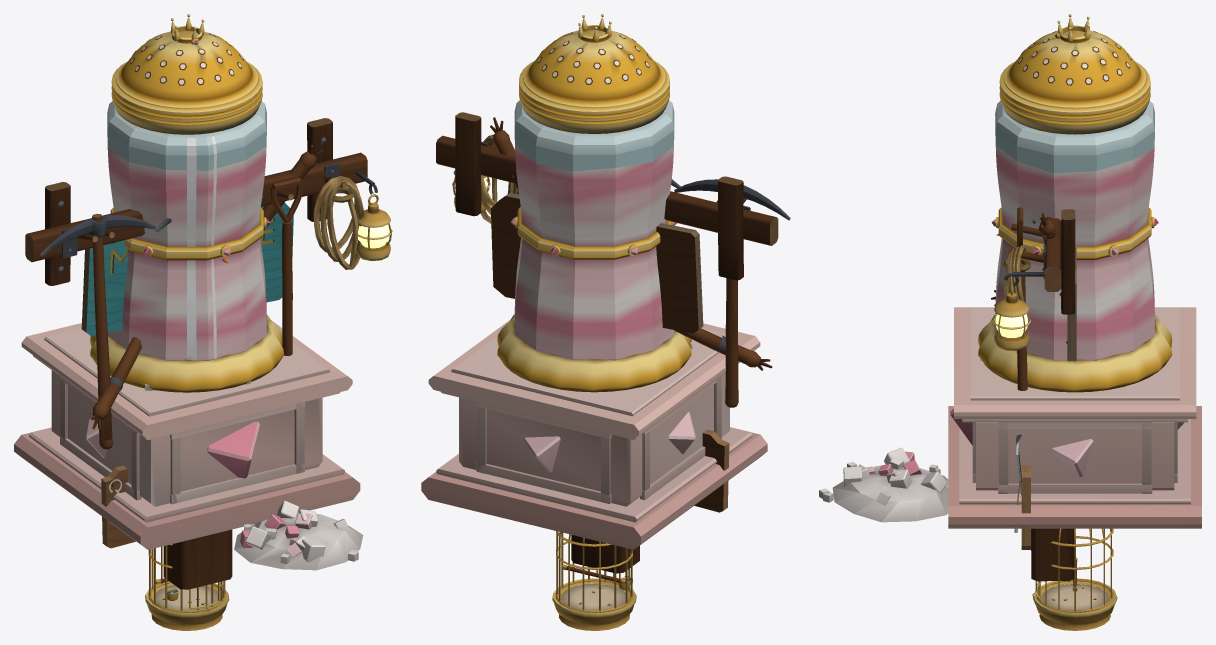
Rendered from salt-mine-curios.glb.
3 renders of one model, left to right at view 1: azimuth 30°, elevation 25°; view 2: azimuth 150°, elevation 25°; view 3: azimuth 270°, elevation 25°, orthographic.
Visible parts, largest first — view 1: SaltShaker, ToolRack, TallyBoard, SignCrabs, CanaryCage, Saltman; view 2: SaltShaker, ToolRack, SignCrabs, CanaryCage, TallyBoard, Saltman; view 3: SaltShaker, ToolRack, CanaryCage, TallyBoard, SignCrabs.
Boxes of the visible parts, left/top/right/bottom form: SaltShaker: left=14, top=14, right=363, bottom=570; ToolRack: left=25, top=118, right=392, bottom=449; TallyBoard: left=101, top=465, right=232, bottom=589; SignCrabs: left=81, top=202, right=293, bottom=336; CanaryCage: left=145, top=544, right=229, bottom=630; Saltman: left=91, top=143, right=323, bottom=429; SaltShaker: left=421, top=14, right=767, bottom=549; ToolRack: left=436, top=112, right=790, bottom=407; SignCrabs: left=491, top=192, right=703, bottom=333; CanaryCage: left=552, top=531, right=636, bottom=630; TallyBoard: left=571, top=429, right=729, bottom=573; Saltman: left=490, top=117, right=772, bottom=370; SaltShaker: left=819, top=14, right=1201, bottom=528; ToolRack: left=992, top=207, right=1075, bottom=495; CanaryCage: left=1032, top=528, right=1117, bottom=630; TallyBoard: left=1014, top=465, right=1074, bottom=581; SignCrabs: left=1066, top=247, right=1076, bottom=361.
Bounding box in the file's own units: 1.44 × 2.38 × 1.39.
Materials: 8 (1 with a texture image).
